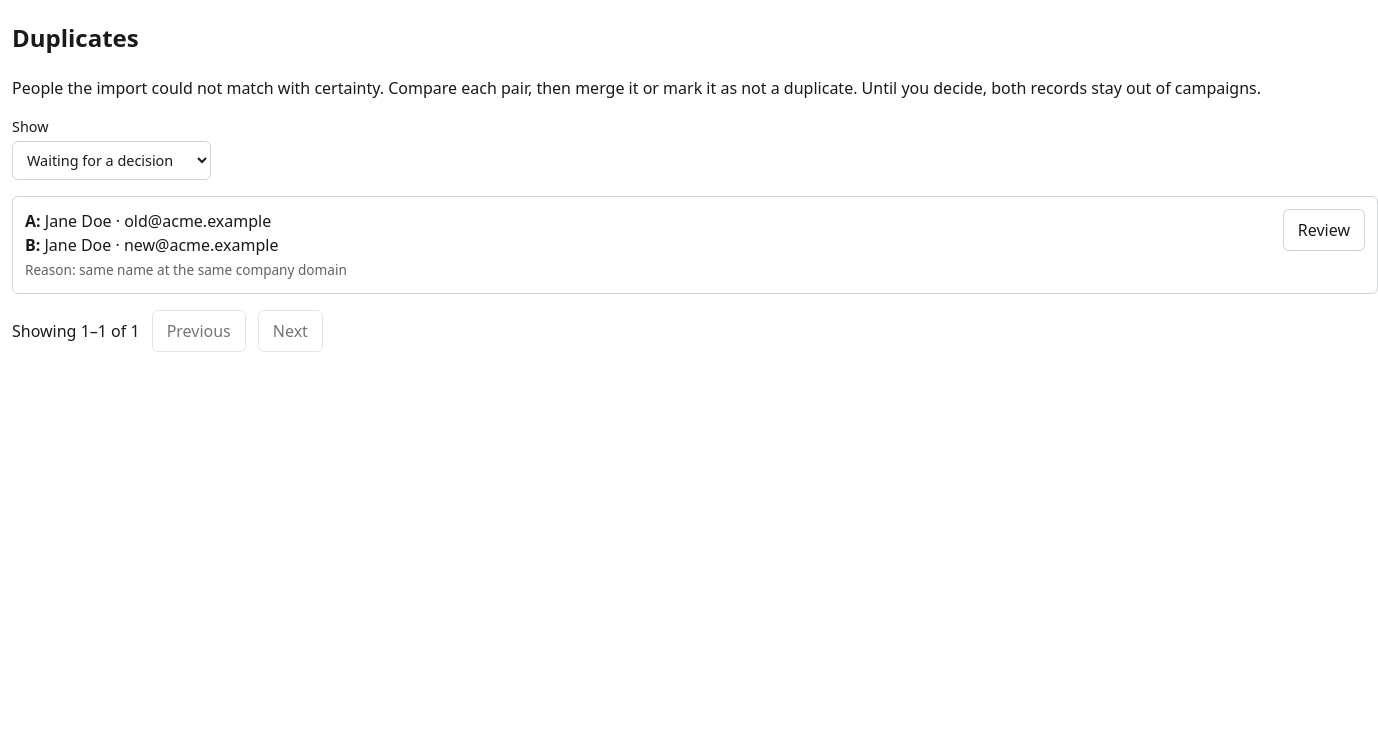
it: not a duplicate › needs a second click, then marks the pair and refreshes
The image size is (1378, 738).
Expected: the text "Jane Doe · old@acme.example" is shown, [45, 210, 271, 232]
Click the button with aria-label "Review Jane Doe".
click(1324, 230)  # box [1283, 209, 1365, 251]
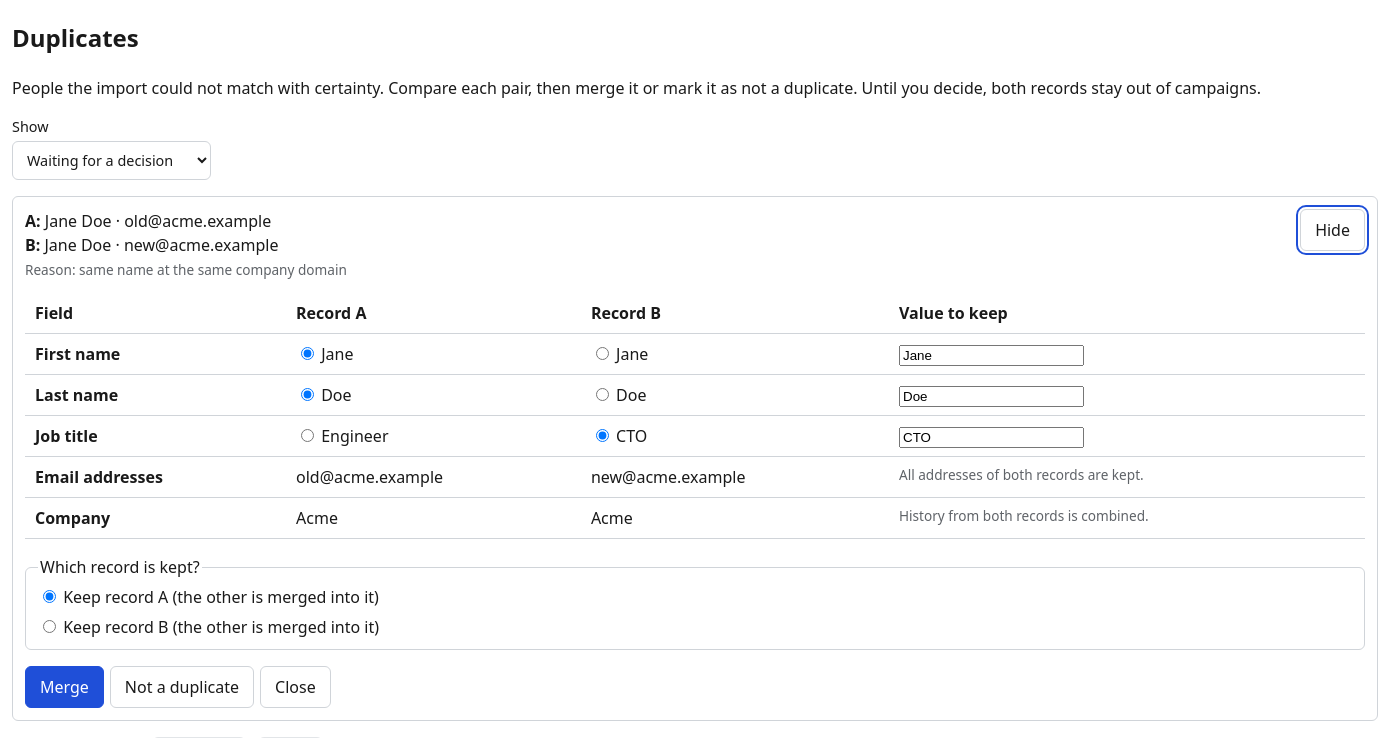
Click the button "Not a duplicate".
click(182, 687)  # box [110, 666, 254, 708]
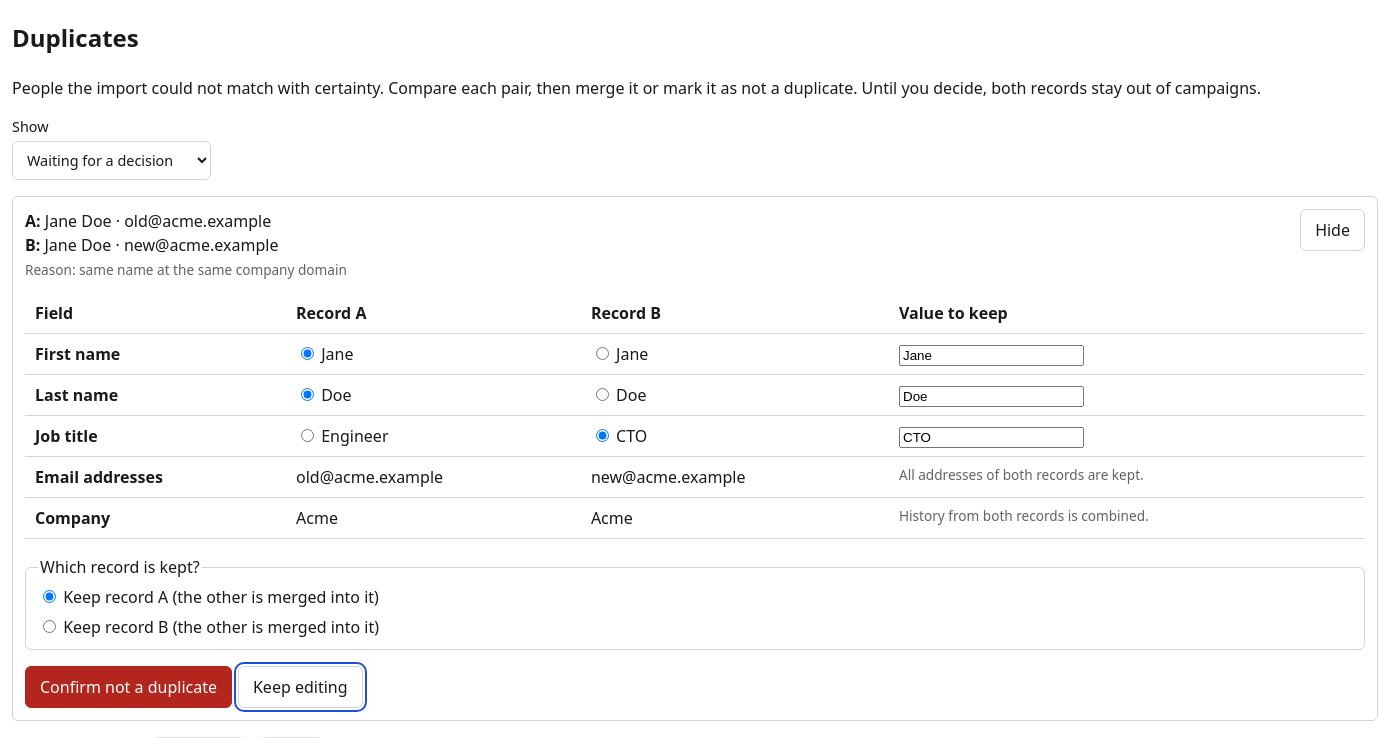
Click the button "Confirm not a duplicate".
click(128, 687)  # box [25, 666, 232, 708]
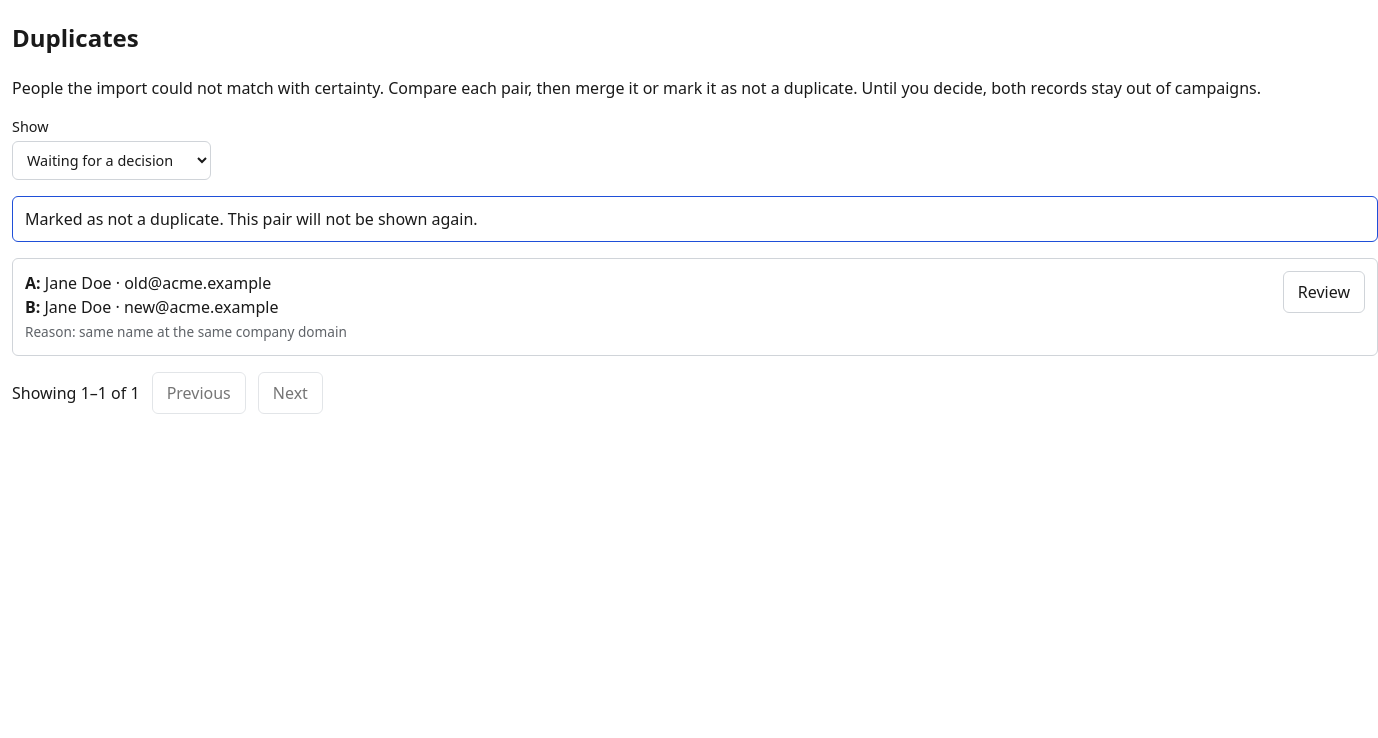
Expected: the text "Marked as not a duplicate. This pair will not be shown again." is shown, [12, 196, 1377, 242]
